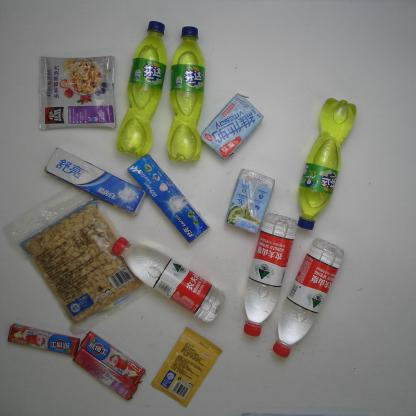Candy: (79, 330, 146, 386), (72, 347, 138, 402), (6, 322, 82, 358)
Dried Fruit: (1, 182, 153, 338)
Drink: (108, 235, 227, 326), (272, 236, 346, 360), (294, 96, 358, 231), (115, 20, 168, 159), (242, 211, 298, 338), (164, 25, 206, 164)
Instant Drink: (38, 53, 118, 133)
Milk: (200, 92, 264, 161), (224, 167, 276, 236)
Personal Hygiene: (125, 152, 212, 244), (41, 145, 147, 216)
Seasoner: (149, 326, 223, 409)
